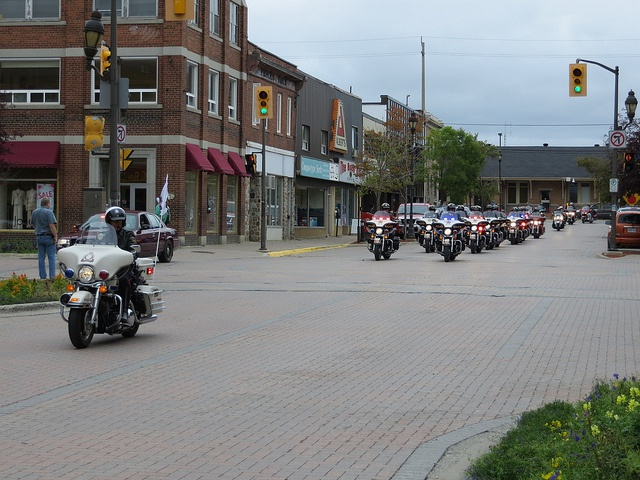non-vehicle: (57, 222, 166, 350), (426, 204, 469, 263), (368, 207, 405, 262), (462, 210, 490, 256), (414, 219, 438, 253), (527, 211, 547, 239), (503, 217, 523, 245), (484, 215, 496, 250), (491, 217, 505, 246), (579, 205, 597, 223), (562, 205, 577, 225), (552, 210, 564, 230)
